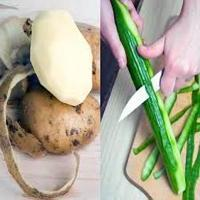biodegradable: (29, 8, 94, 107), (22, 88, 101, 154)
